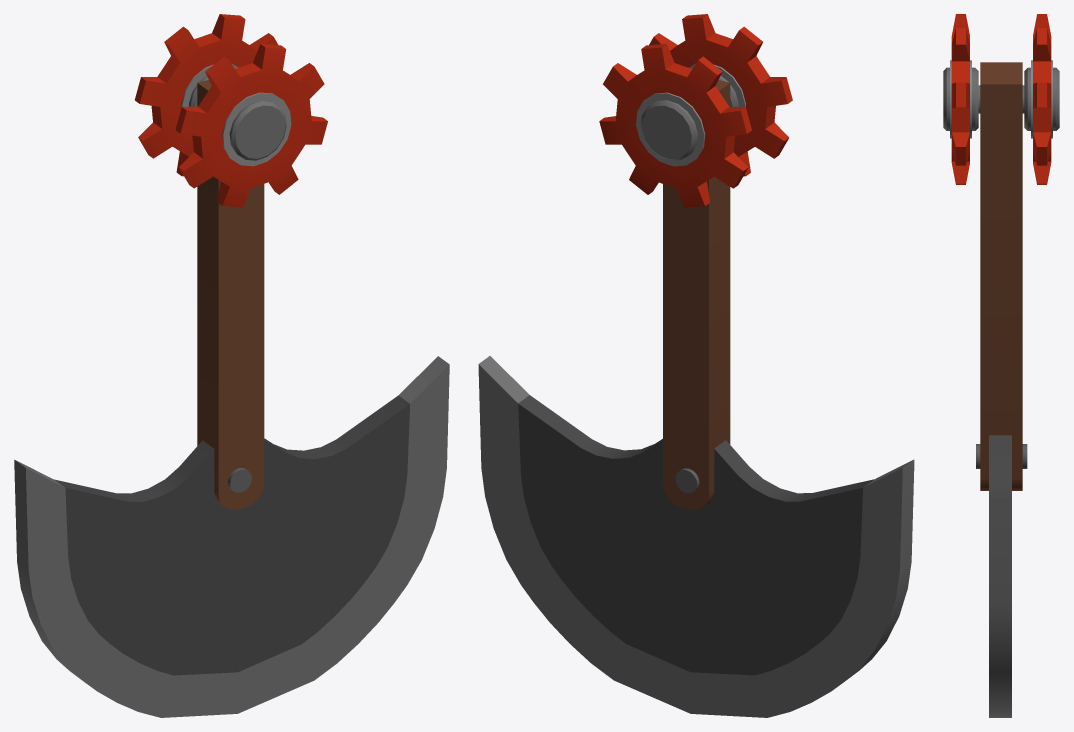
File: Axe.fbx
The picture shows the model from 3 angles, left to right: view 1: azimuth 30°, elevation 25°; view 2: azimuth 150°, elevation 25°; view 3: azimuth 270°, elevation 25°; orthographic projection.
Parts seen in each view (by area): view 1: Cube_033, Axe1__2_; view 2: Cube_033, Axe1__2_; view 3: Cube_033, Axe1__2_.
Boxes of the visible parts, x1,y1,x2,y2 form: Cube_033: [14, 80, 449, 717]; Axe1__2_: [135, 14, 327, 207]; Cube_033: [478, 80, 914, 717]; Axe1__2_: [599, 14, 792, 207]; Cube_033: [976, 62, 1027, 717]; Axe1__2_: [943, 14, 1059, 184].
Bounding box in the file's own units: 265 × 403 × 63.26.
